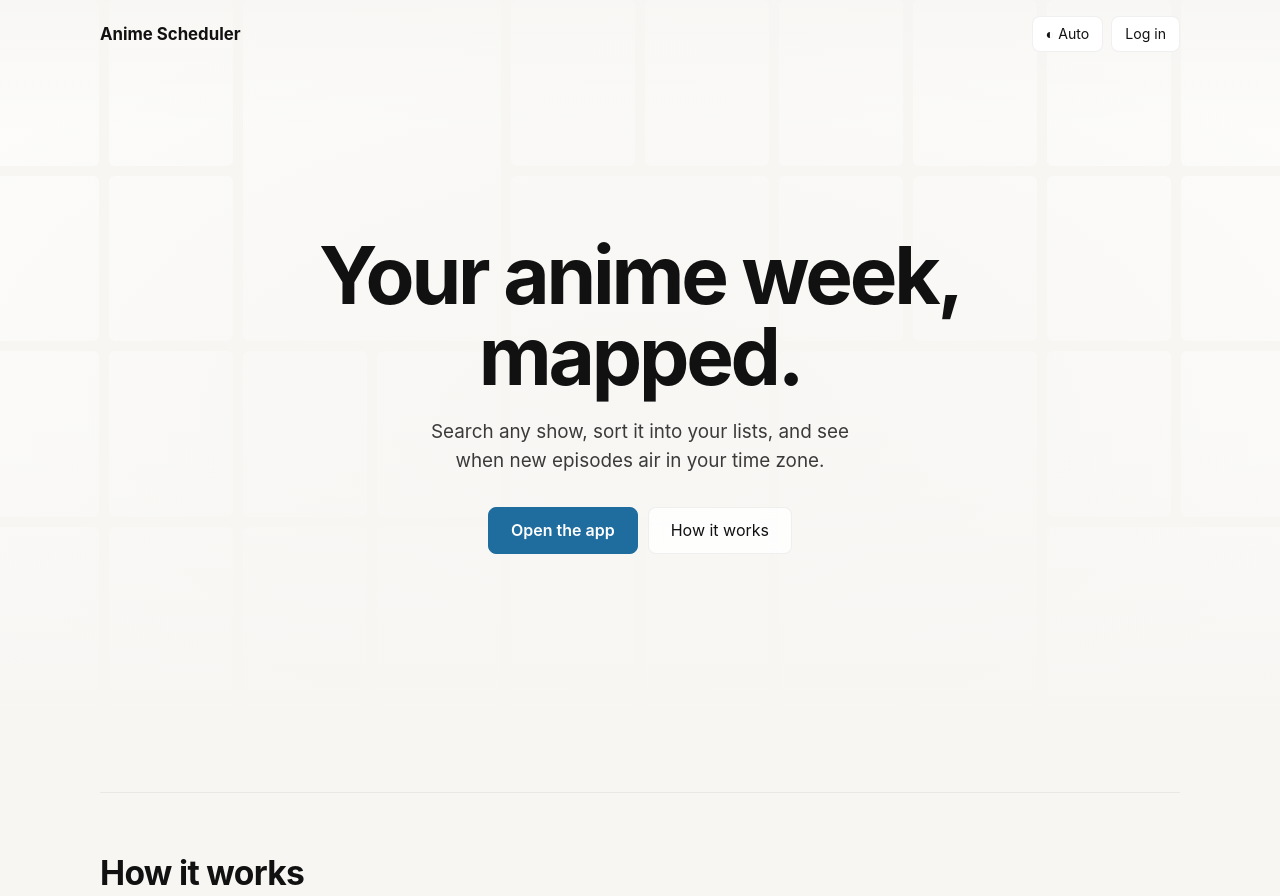
Test: App — search flow (D5/D7) › failure shows an error + Retry, search pauses until retry succeeds
This screenshot has width=1280, height=896.
Click the button "Open the app": (563, 531) x1=488 y1=507 x2=638 y2=554
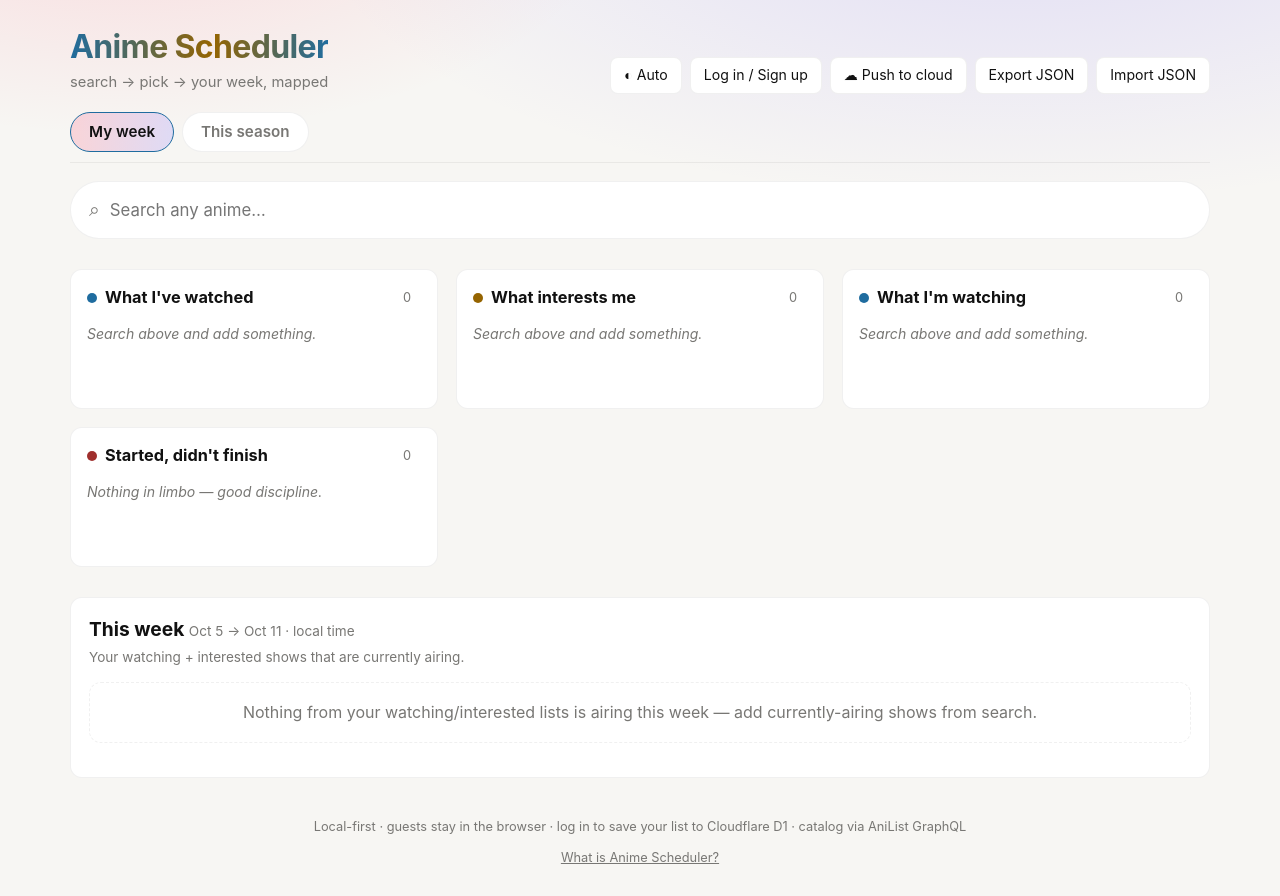
In the search field named "Search anime": (650, 210) x1=110 y1=188 x2=1191 y2=232, type "show"
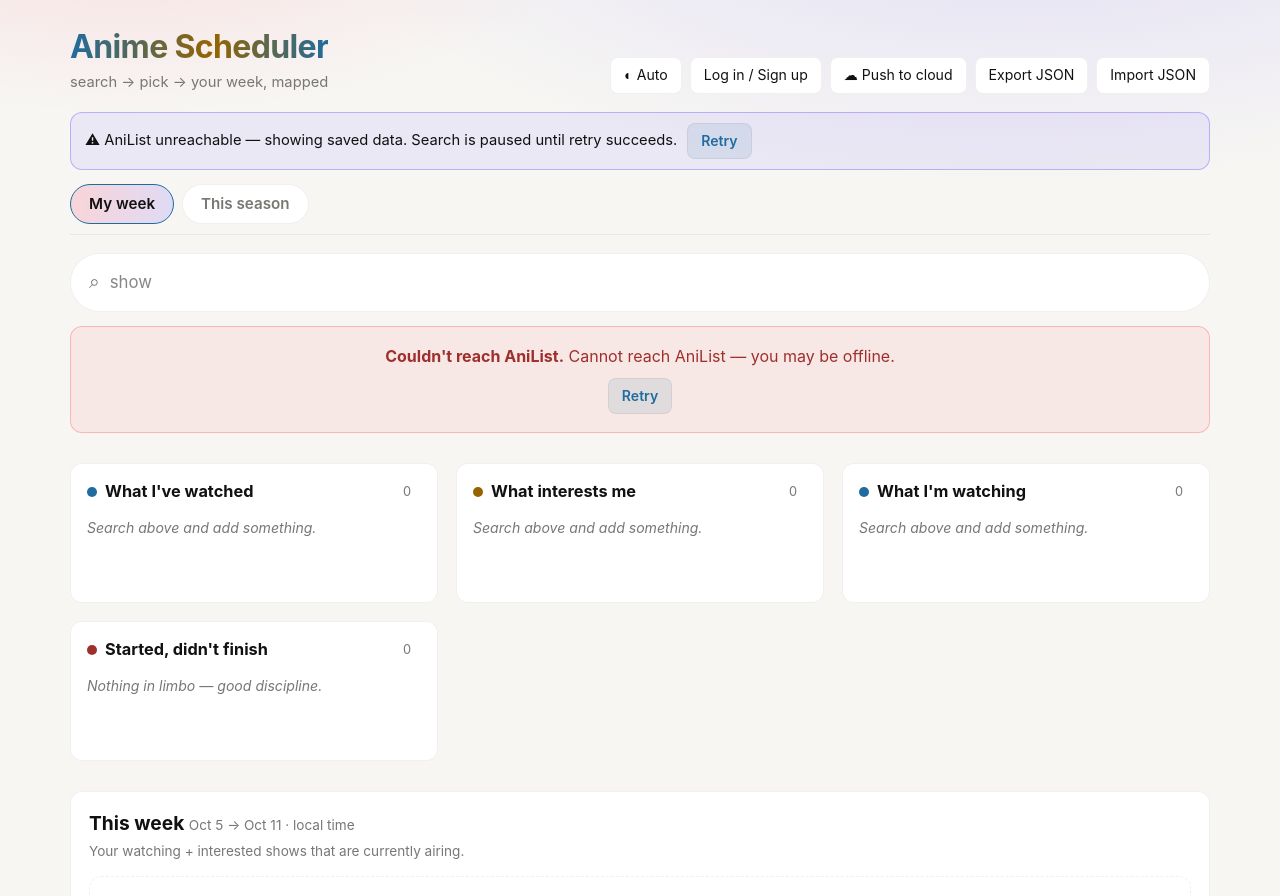
Now the text "Couldn't reach AniList." is shown, box x1=385 y1=346 x2=564 y2=366
Now the text "Search is paused" is shown, box x1=403 y1=131 x2=677 y2=149
Now the search field named "Search anime" is disabled, box x1=110 y1=260 x2=1191 y2=304
Click the button "Retry" next to ". Search is paused until retry succeeds.": (720, 141) x1=687 y1=123 x2=752 y2=159
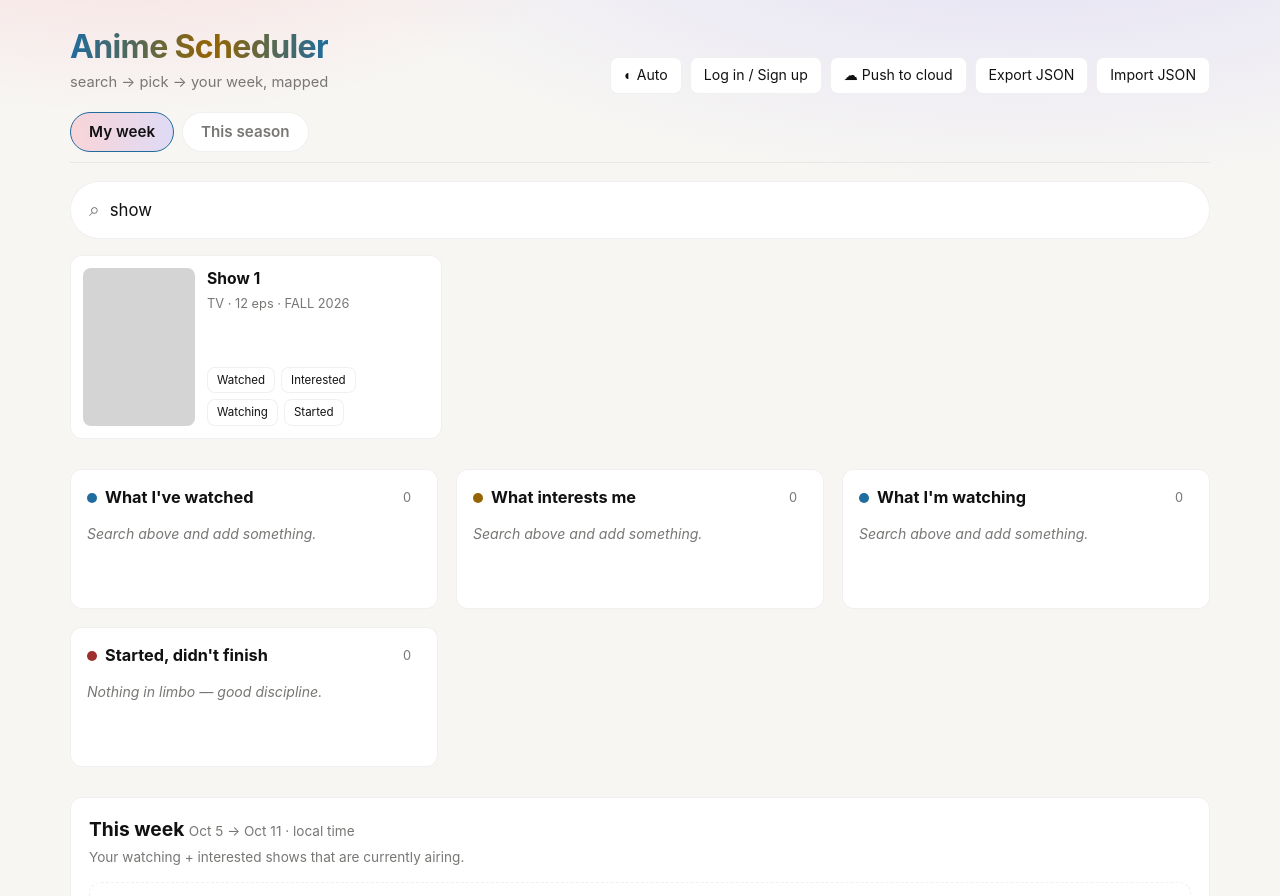
Now the text "Couldn't reach AniList" is gone
Now the heading "Show 1" is shown, box x1=207 y1=268 x2=260 y2=291
Now the search field named "Search anime" is enabled, box x1=110 y1=188 x2=1191 y2=232
